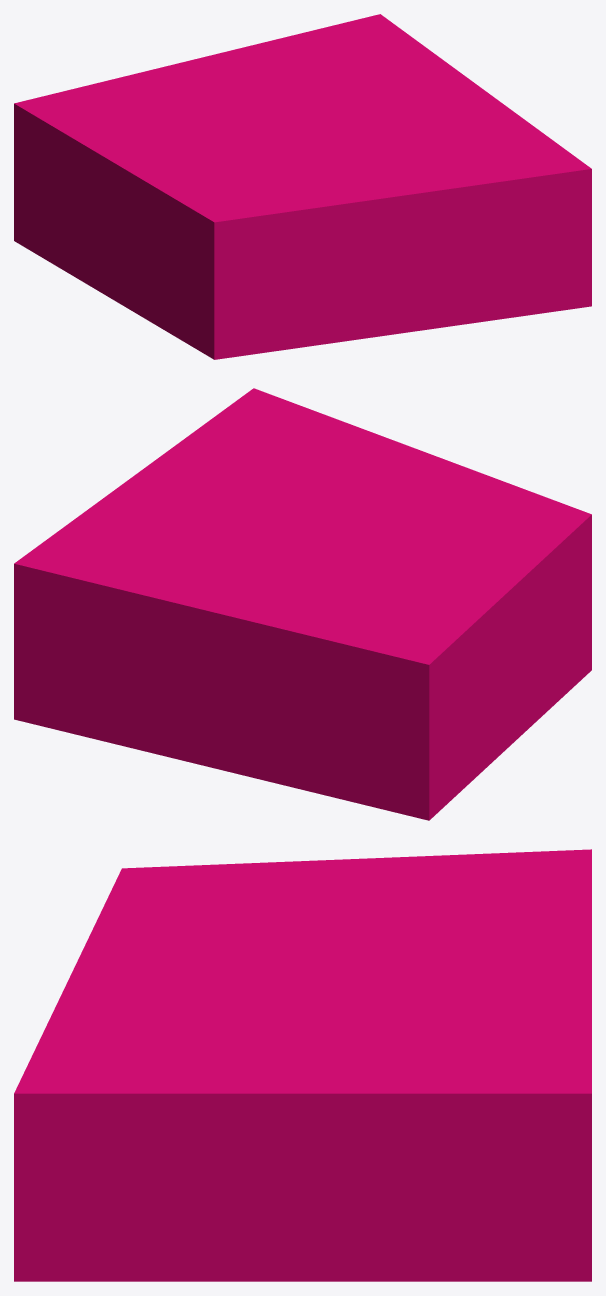
File: Stone_Wall_01A.fbx
3 renders of one model, top to bottom at view 1: azimuth 30°, elevation 25°; view 2: azimuth 150°, elevation 25°; view 3: azimuth 270°, elevation 25°, orthographic. The views are drawn at different scales.
Visible parts, largest first — view 1: Stone_Wall_01A; view 2: Stone_Wall_01A; view 3: Stone_Wall_01A.
Part boxes in pixels (x1,y1,x2,y2): Stone_Wall_01A: (14,14,591,359); Stone_Wall_01A: (14,388,591,820); Stone_Wall_01A: (14,849,591,1281).
Size of the model in its own units: 32.24 by 11.56 by 32.24.
